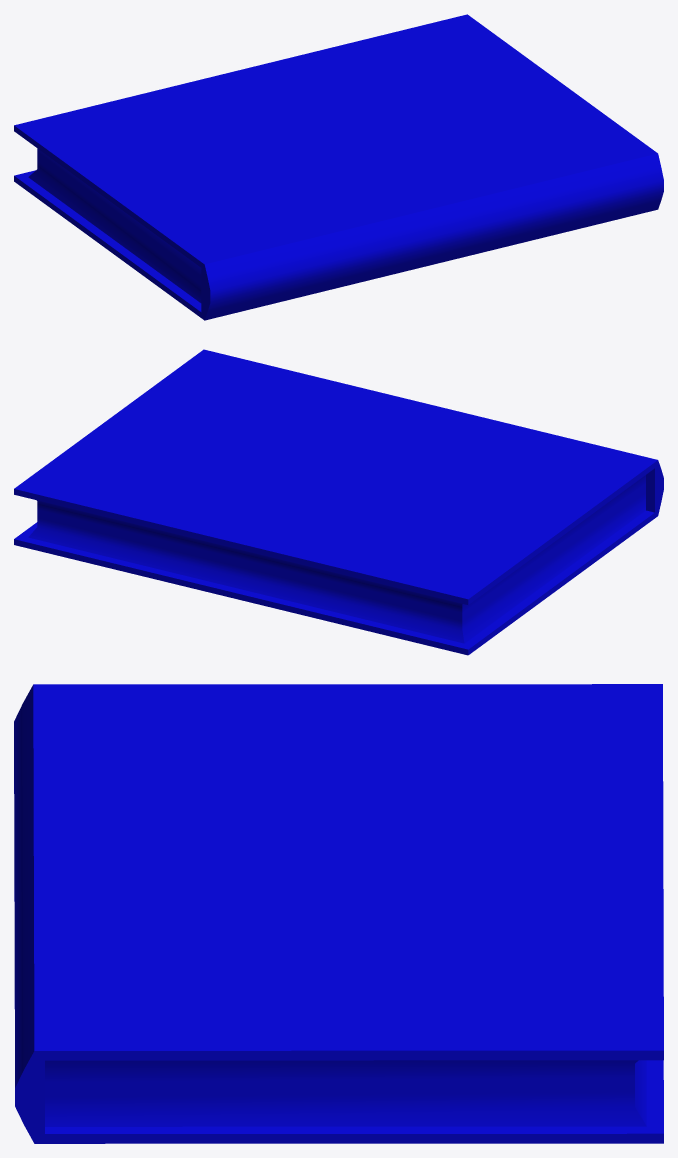
Rendered from Livres_seule_04.fbx.
3 views of the same model, one above another, from view 1: azimuth 30°, elevation 25°; view 2: azimuth 150°, elevation 25°; view 3: azimuth 270°, elevation 25° (orthographic). The views are drawn at different scales.
Visible parts, largest first — view 1: Livres_seule3; view 2: Livres_seule3; view 3: Livres_seule3.
Boxes of the visible parts, box(x1,y1,x2,y2) form: Livres_seule3: box(14, 14, 663, 320); Livres_seule3: box(14, 349, 663, 655); Livres_seule3: box(14, 684, 663, 1143).
Size of the model in its own units: 0.3455 by 0.0408 by 0.2587.
